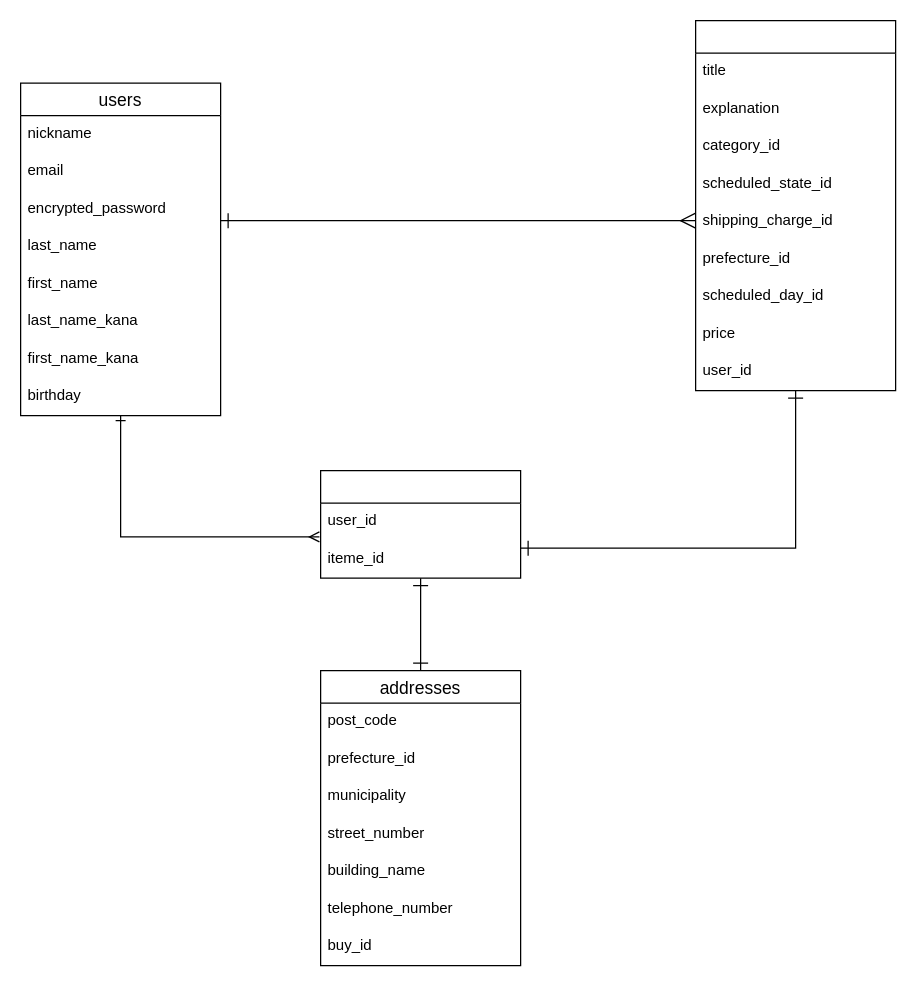
This 916x986 diagram has some shape labels left out. The shapes that lost their labels are listed below. From the top down, each one's box as (x1, y1, x2, y2) in pixels, then its label:
(694, 19, 896, 391): items
(319, 469, 521, 578): buys
